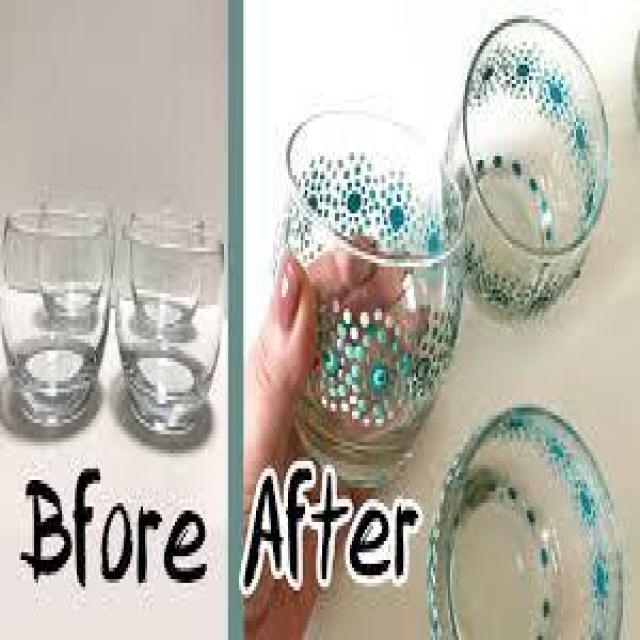non-organic waste: (271, 114, 467, 484), (443, 13, 613, 326), (0, 202, 113, 423)
